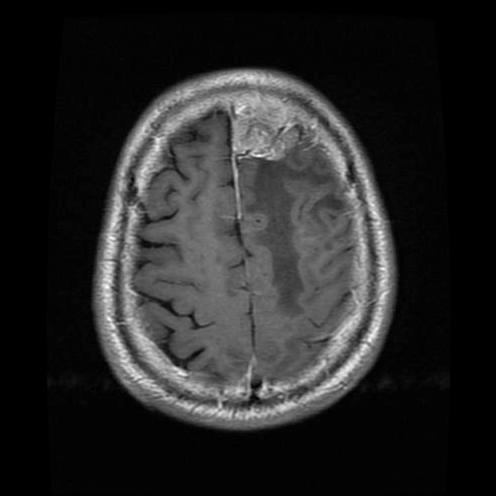Tumour-Meningioma: (212, 94, 308, 173)
